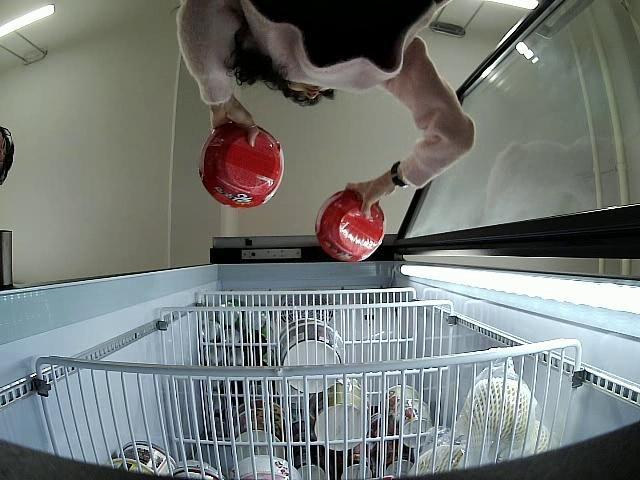10_wangTtukkeong: (200, 125, 284, 209), (316, 191, 388, 262)
